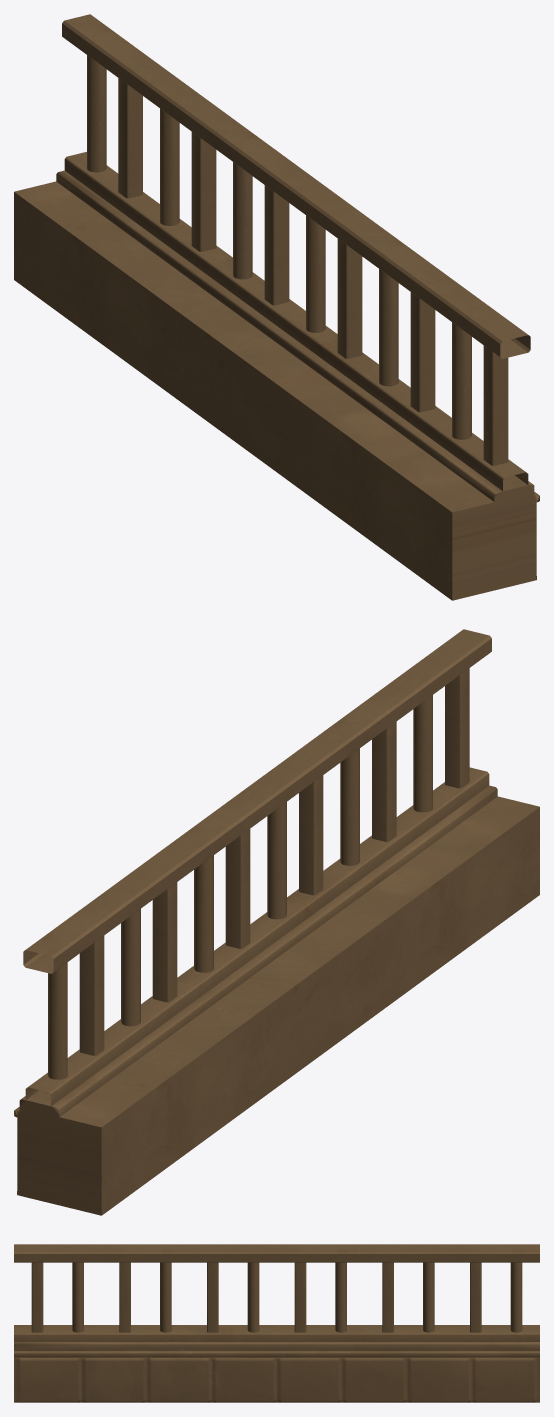
Rendered from SM_Building02RailingLR.fbx.
3 views of the same model, one above another, from view 1: azimuth 30°, elevation 25°; view 2: azimuth 150°, elevation 25°; view 3: azimuth 270°, elevation 25° (orthographic). The views are drawn at different scales.
Visible parts, largest first — view 1: SM_Building02RailingLR_LOD0; view 2: SM_Building02RailingLR_LOD0; view 3: SM_Building02RailingLR_LOD0.
Boxes of the visible parts, x1=… form: SM_Building02RailingLR_LOD0: x1=14, y1=14, x2=539, y2=600; SM_Building02RailingLR_LOD0: x1=14, y1=629, x2=539, y2=1215; SM_Building02RailingLR_LOD0: x1=14, y1=1244, x2=539, y2=1402.
Bounding box in the file's own units: 52.2 × 450 × 140.
Materials: 2 (2 with a texture image).
